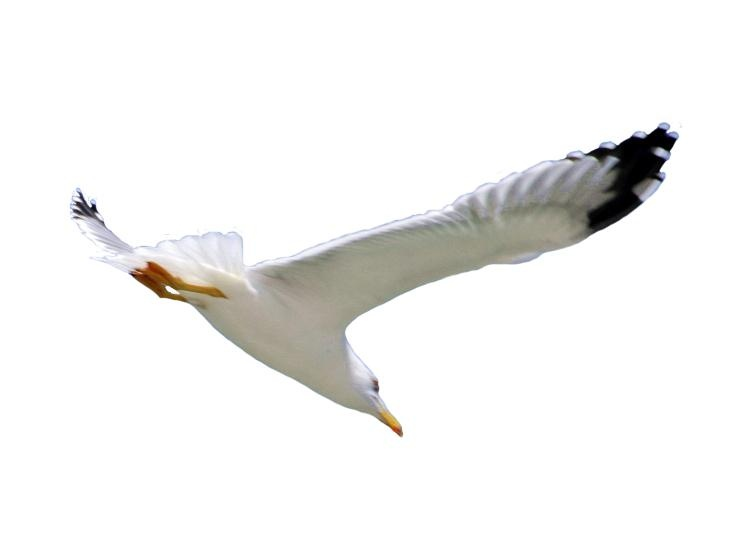bird: (62, 123, 674, 439)
